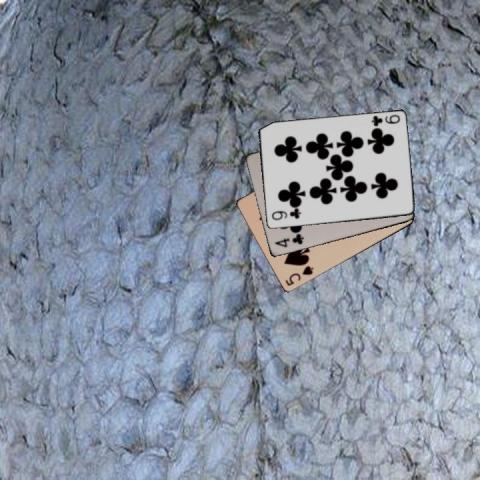4c: (272, 231, 305, 249)
5s: (282, 263, 315, 287)
9c: (368, 112, 401, 128), (269, 208, 302, 222)
